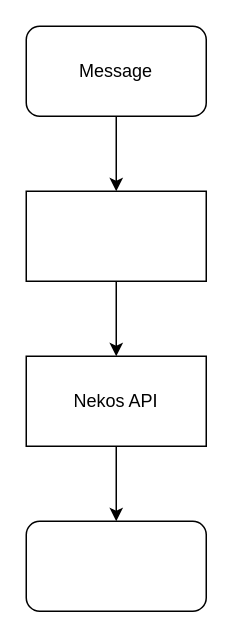
This 233x638 diagram has some shape labels left out. The centre of each missing label's shape, as x and y in pixels:
Decision Model: point 115,235
Send: point 115,565
